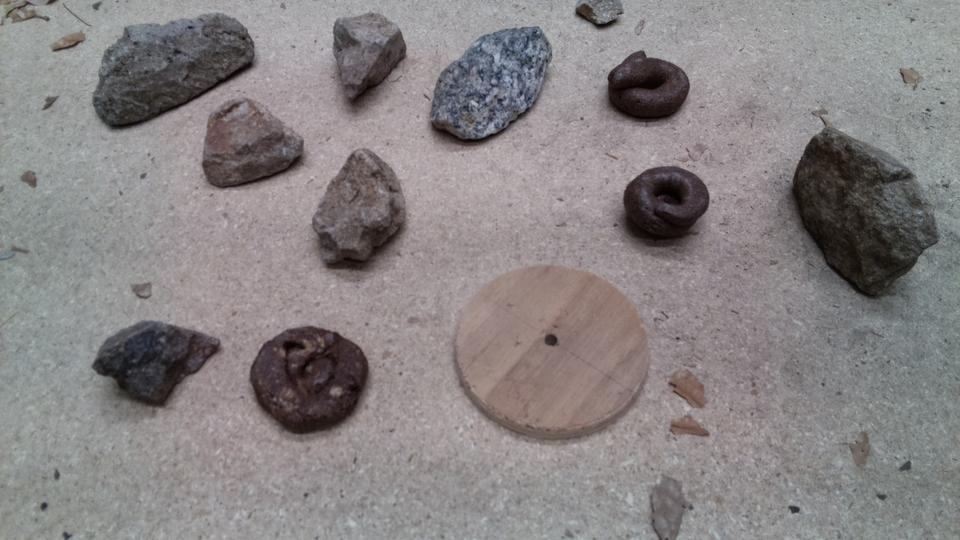poop: (733, 98, 842, 191), (357, 143, 440, 225)
